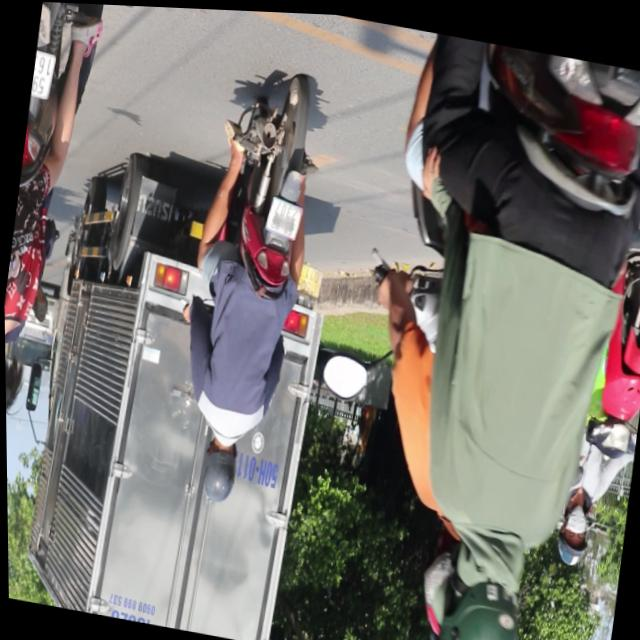helmet: (408, 518, 534, 640), (410, 514, 466, 640), (193, 430, 242, 507), (551, 494, 592, 564)
licenseplate: (310, 19, 640, 640), (156, 56, 338, 517), (0, 0, 120, 438)
nohelmet: (264, 194, 303, 237), (29, 51, 55, 99)
